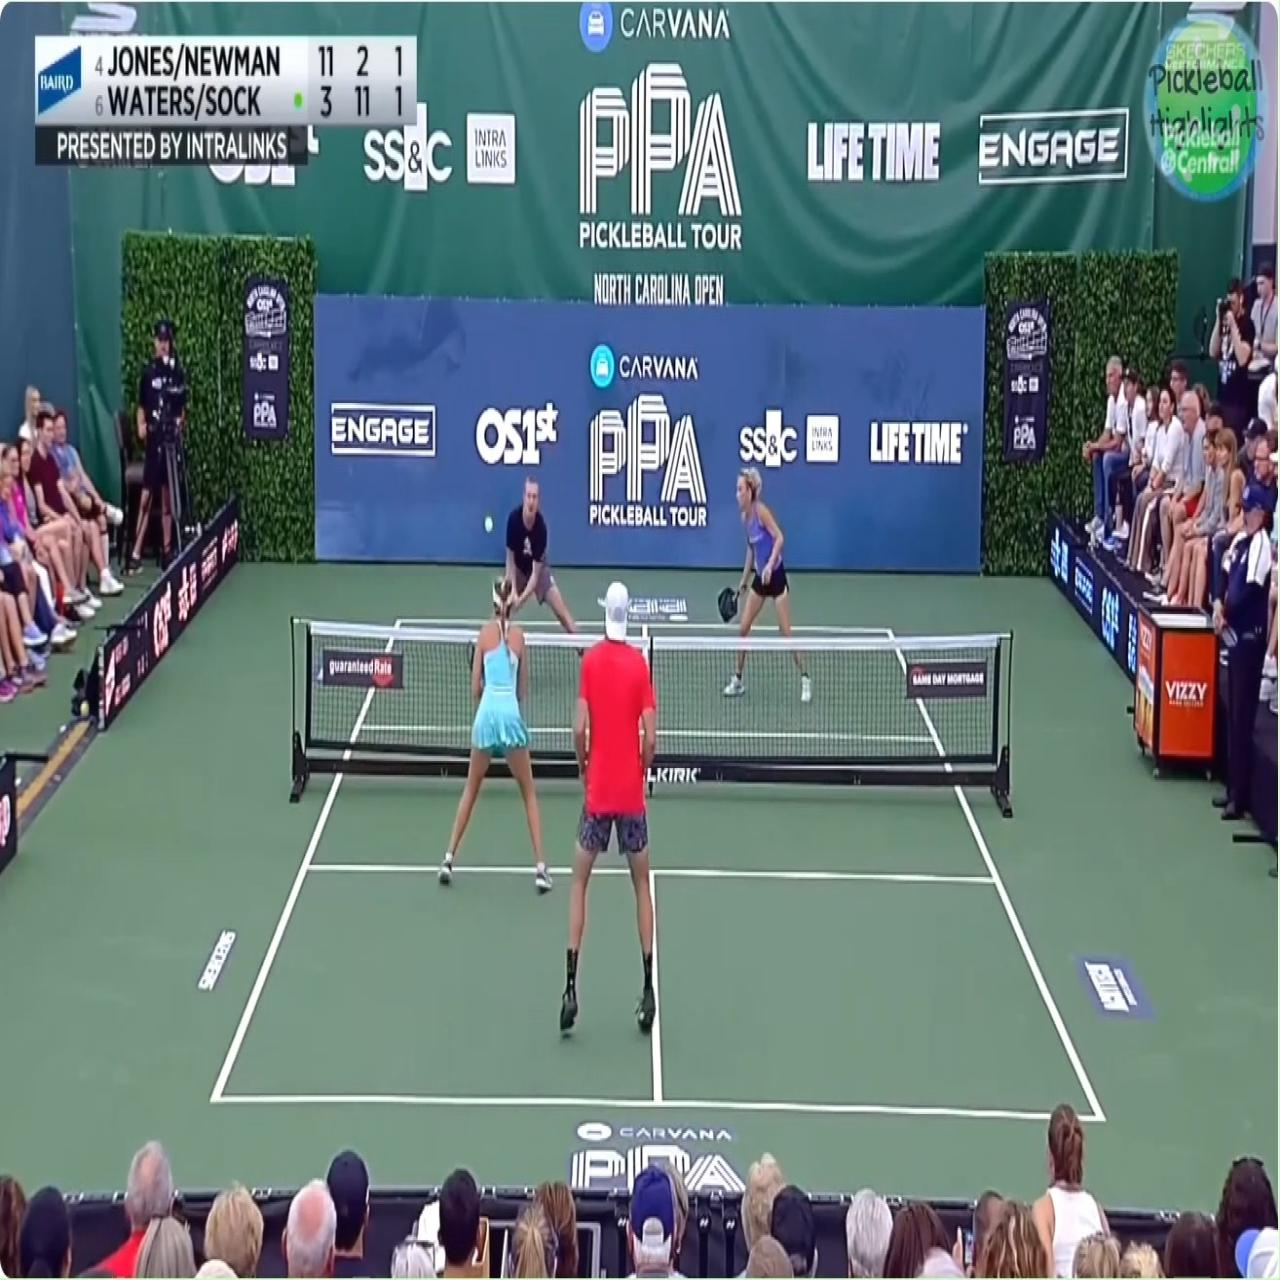pickleball: (484, 513, 493, 533)
